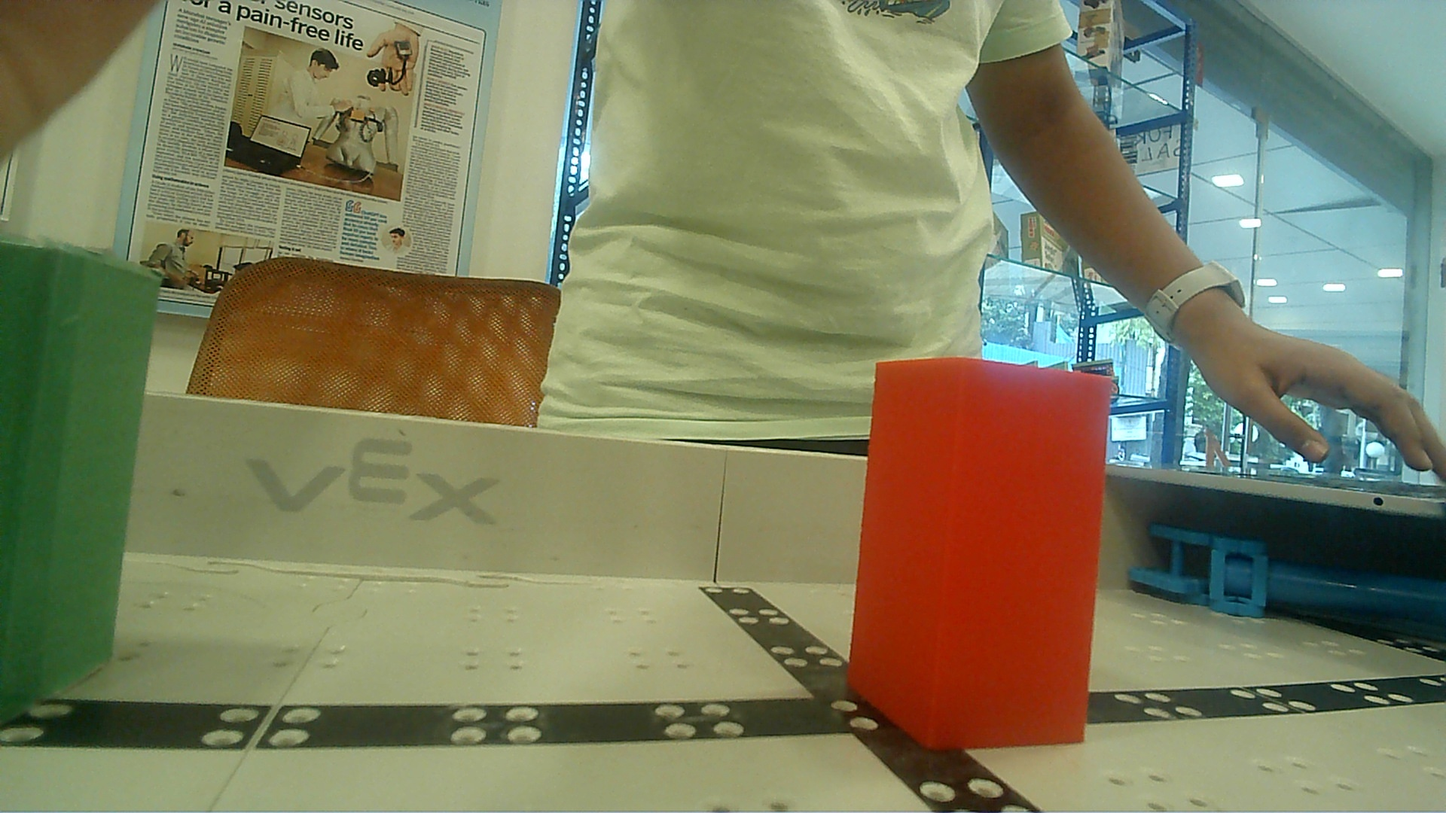red: (822, 342, 1141, 769)
